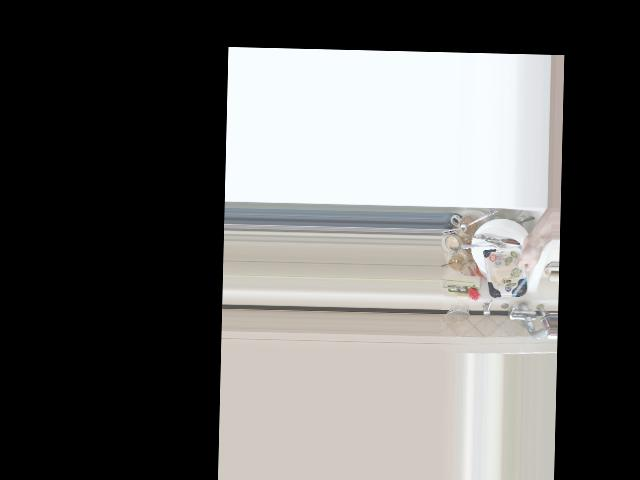cheese: (483, 236, 541, 302)
